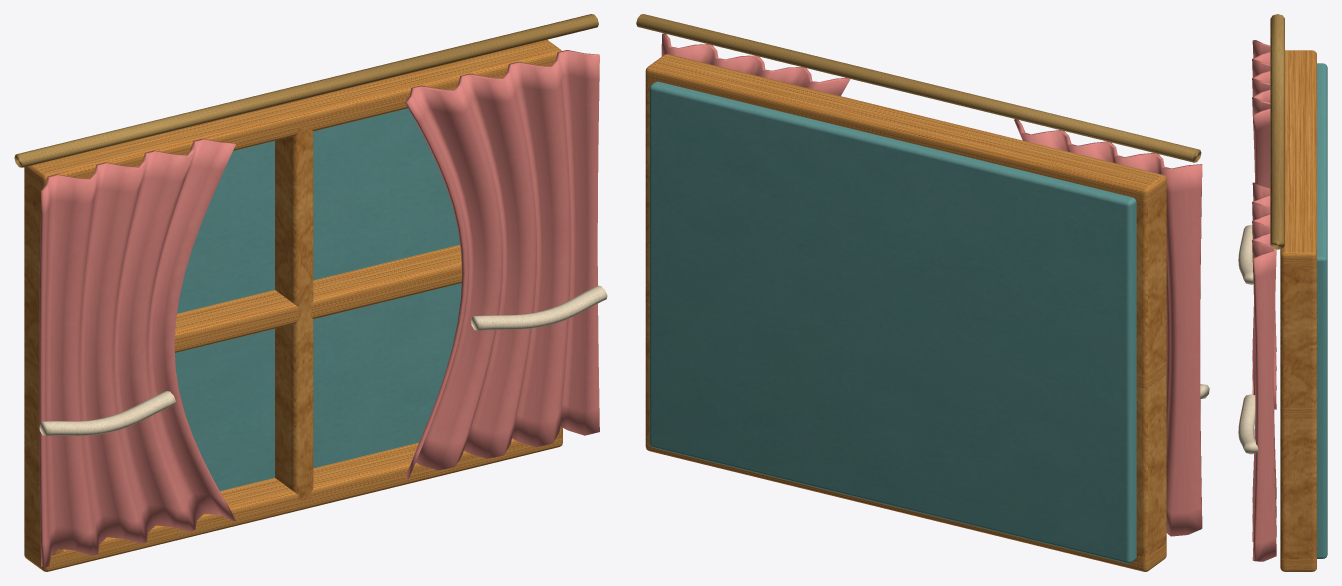
File: SM_InteriorAdditions_WindowCurtains.fbx
3 views of the same model, side by side, from view 1: azimuth 30°, elevation 25°; view 2: azimuth 150°, elevation 25°; view 3: azimuth 270°, elevation 25° (orthographic). The views are drawn at different scales.
Visible parts, largest first — view 1: SM_InteriorAdditions_WindowCurtains; view 2: SM_InteriorAdditions_WindowCurtains; view 3: SM_InteriorAdditions_WindowCurtains.
Part boxes in pixels (<box>): SM_InteriorAdditions_WindowCurtains: <box>14,14,607,571</box>; SM_InteriorAdditions_WindowCurtains: <box>636,14,1209,571</box>; SM_InteriorAdditions_WindowCurtains: <box>1238,14,1327,571</box>.
Size of what is drawn, in the model's own units: 138 by 23 by 98.
